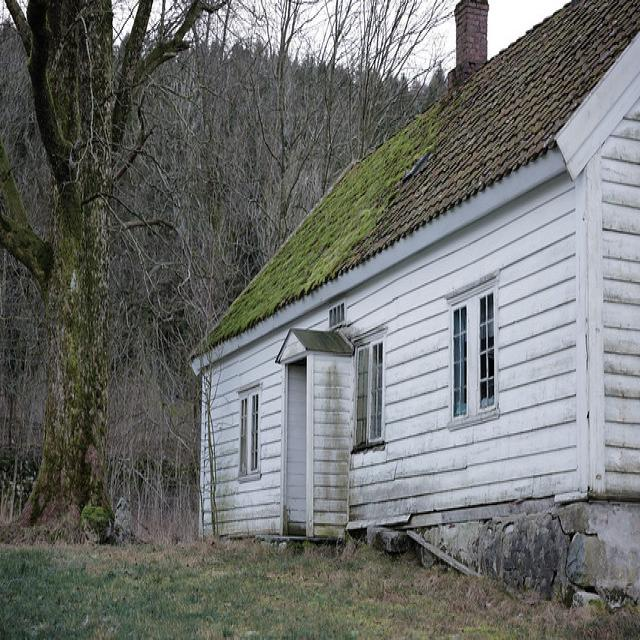building: (193, 6, 640, 594)
